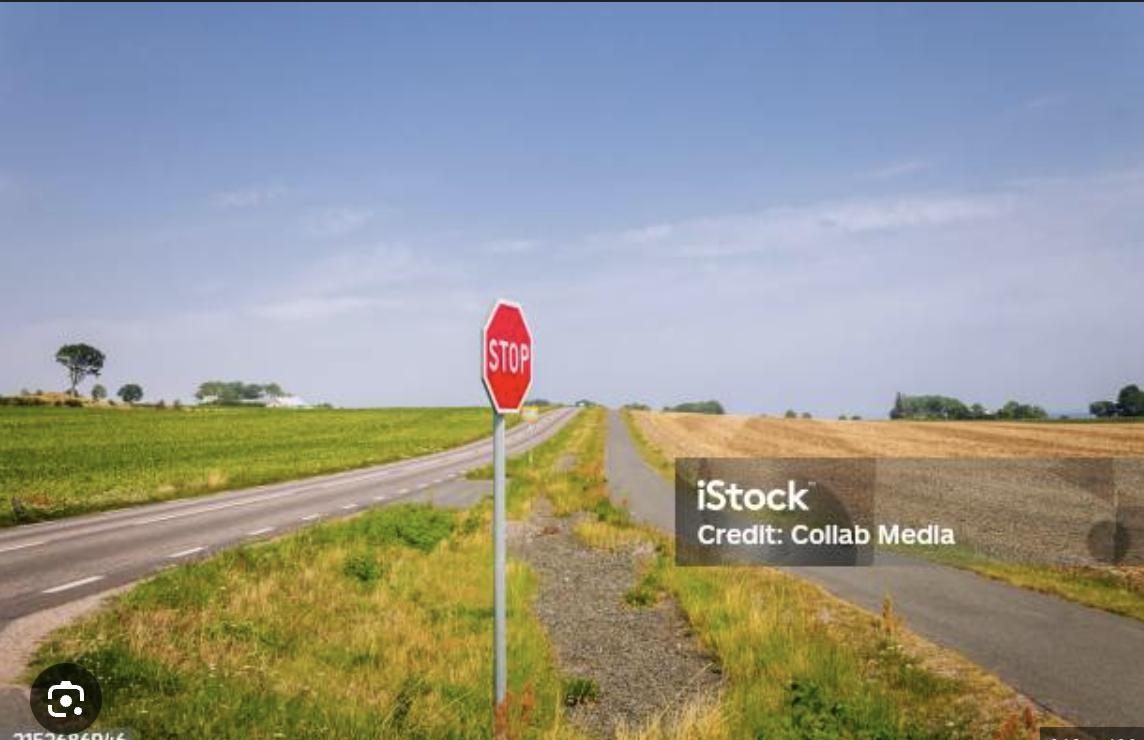Stop-Sign: (483, 300, 534, 414)
